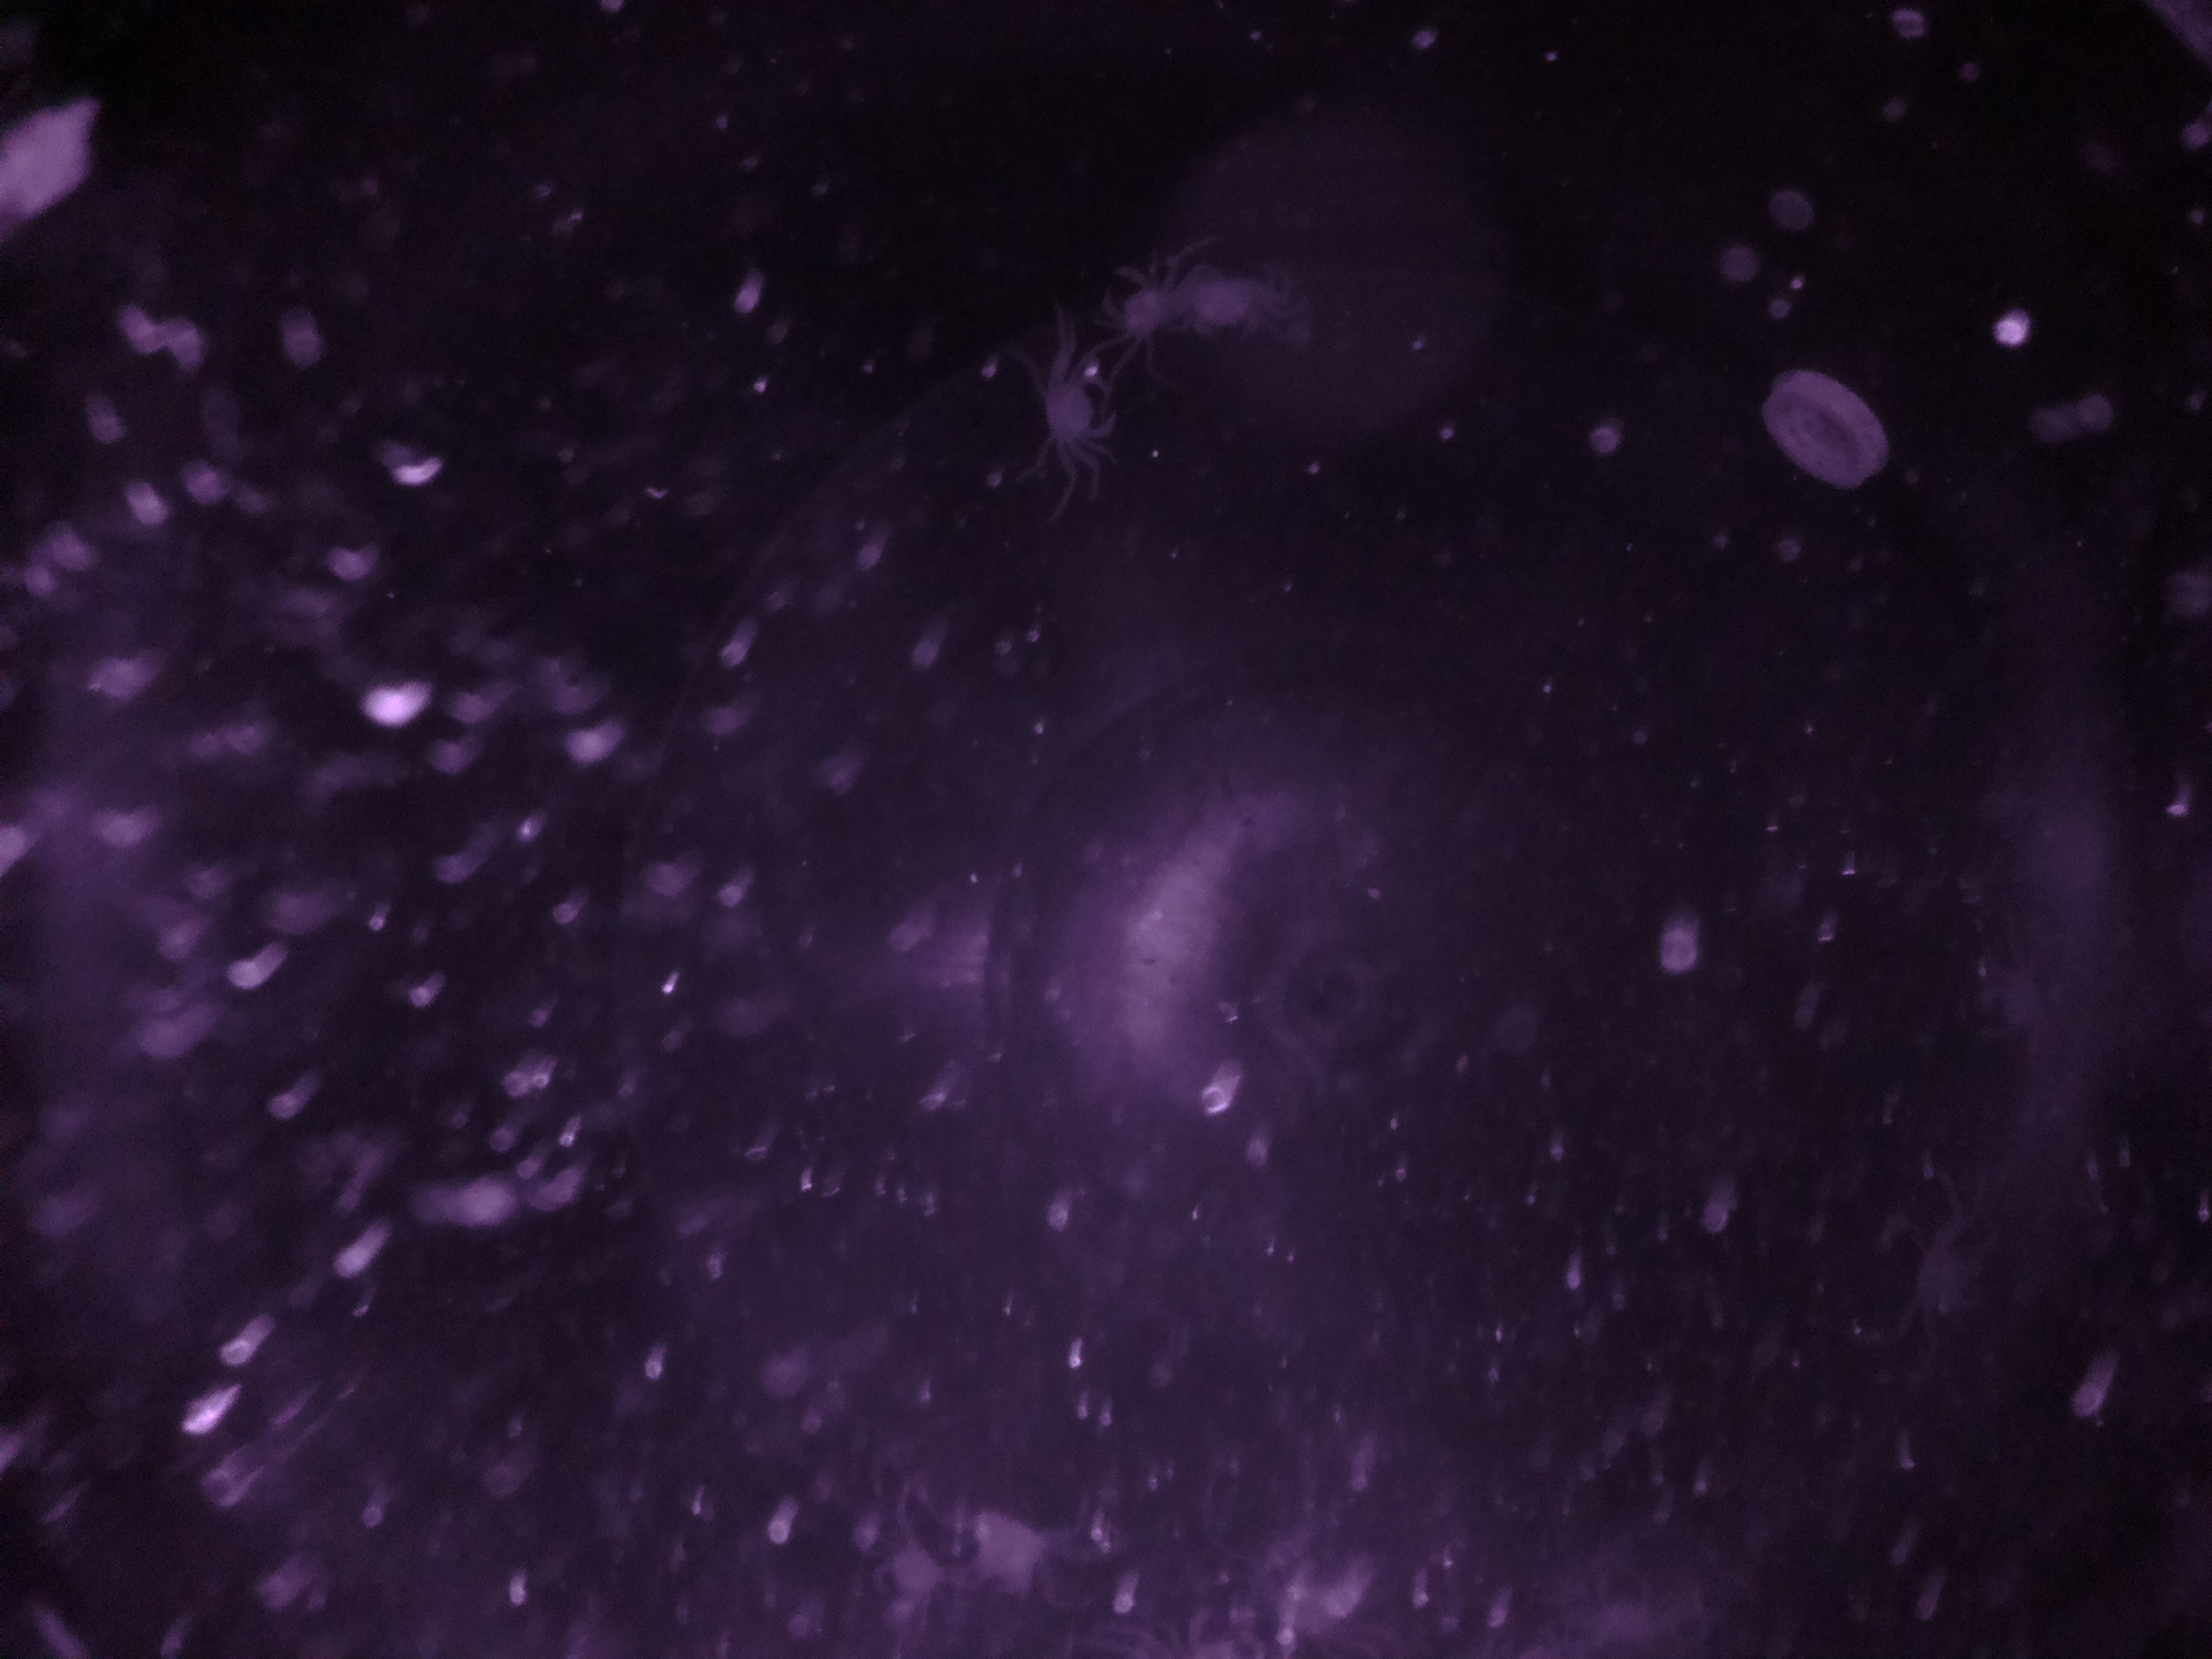Crab: (1019, 359, 1129, 457), (1090, 251, 1191, 345)
